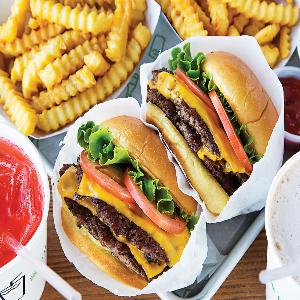cheeseburger_475cal: (52, 107, 220, 282), (150, 35, 287, 209)
fries_350cal: (2, 1, 144, 127)
